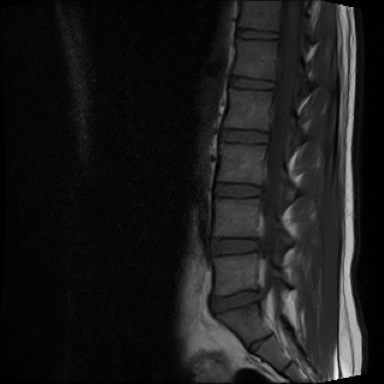Lumbar Disc Bulge (LDB): (205, 282, 268, 317)
Normal IVD: (198, 233, 260, 254), (214, 124, 270, 144), (207, 181, 263, 199), (224, 73, 276, 91), (230, 26, 281, 40)
Spinal Stenosis (SS): (251, 280, 271, 309)
